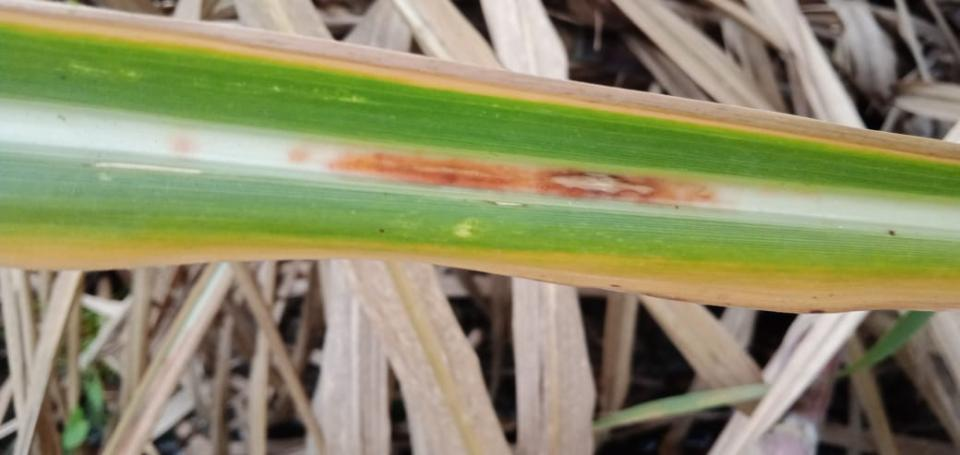RedRot: (324, 149, 718, 209), (162, 129, 205, 161), (283, 142, 314, 167)
Yellow: (0, 0, 959, 166), (0, 221, 959, 314)
